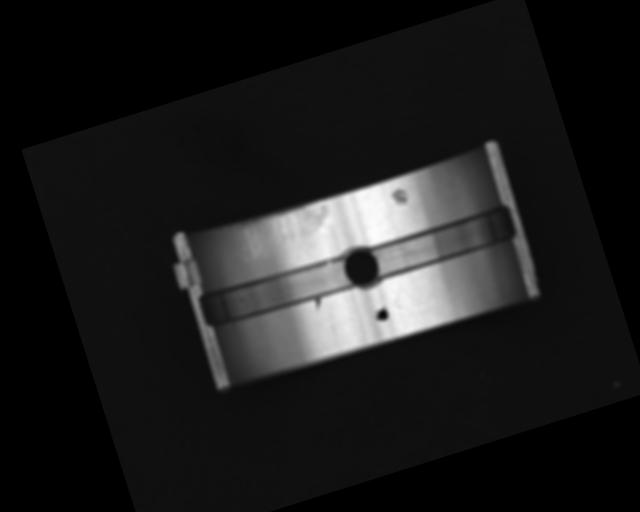blot: (372, 304, 390, 324)
bruise: (388, 185, 412, 210), (312, 296, 326, 311)
gap: (198, 248, 355, 332), (364, 201, 521, 283)
hole: (336, 240, 384, 294)
nick: (325, 311, 341, 345)
scratch: (233, 197, 336, 259)
